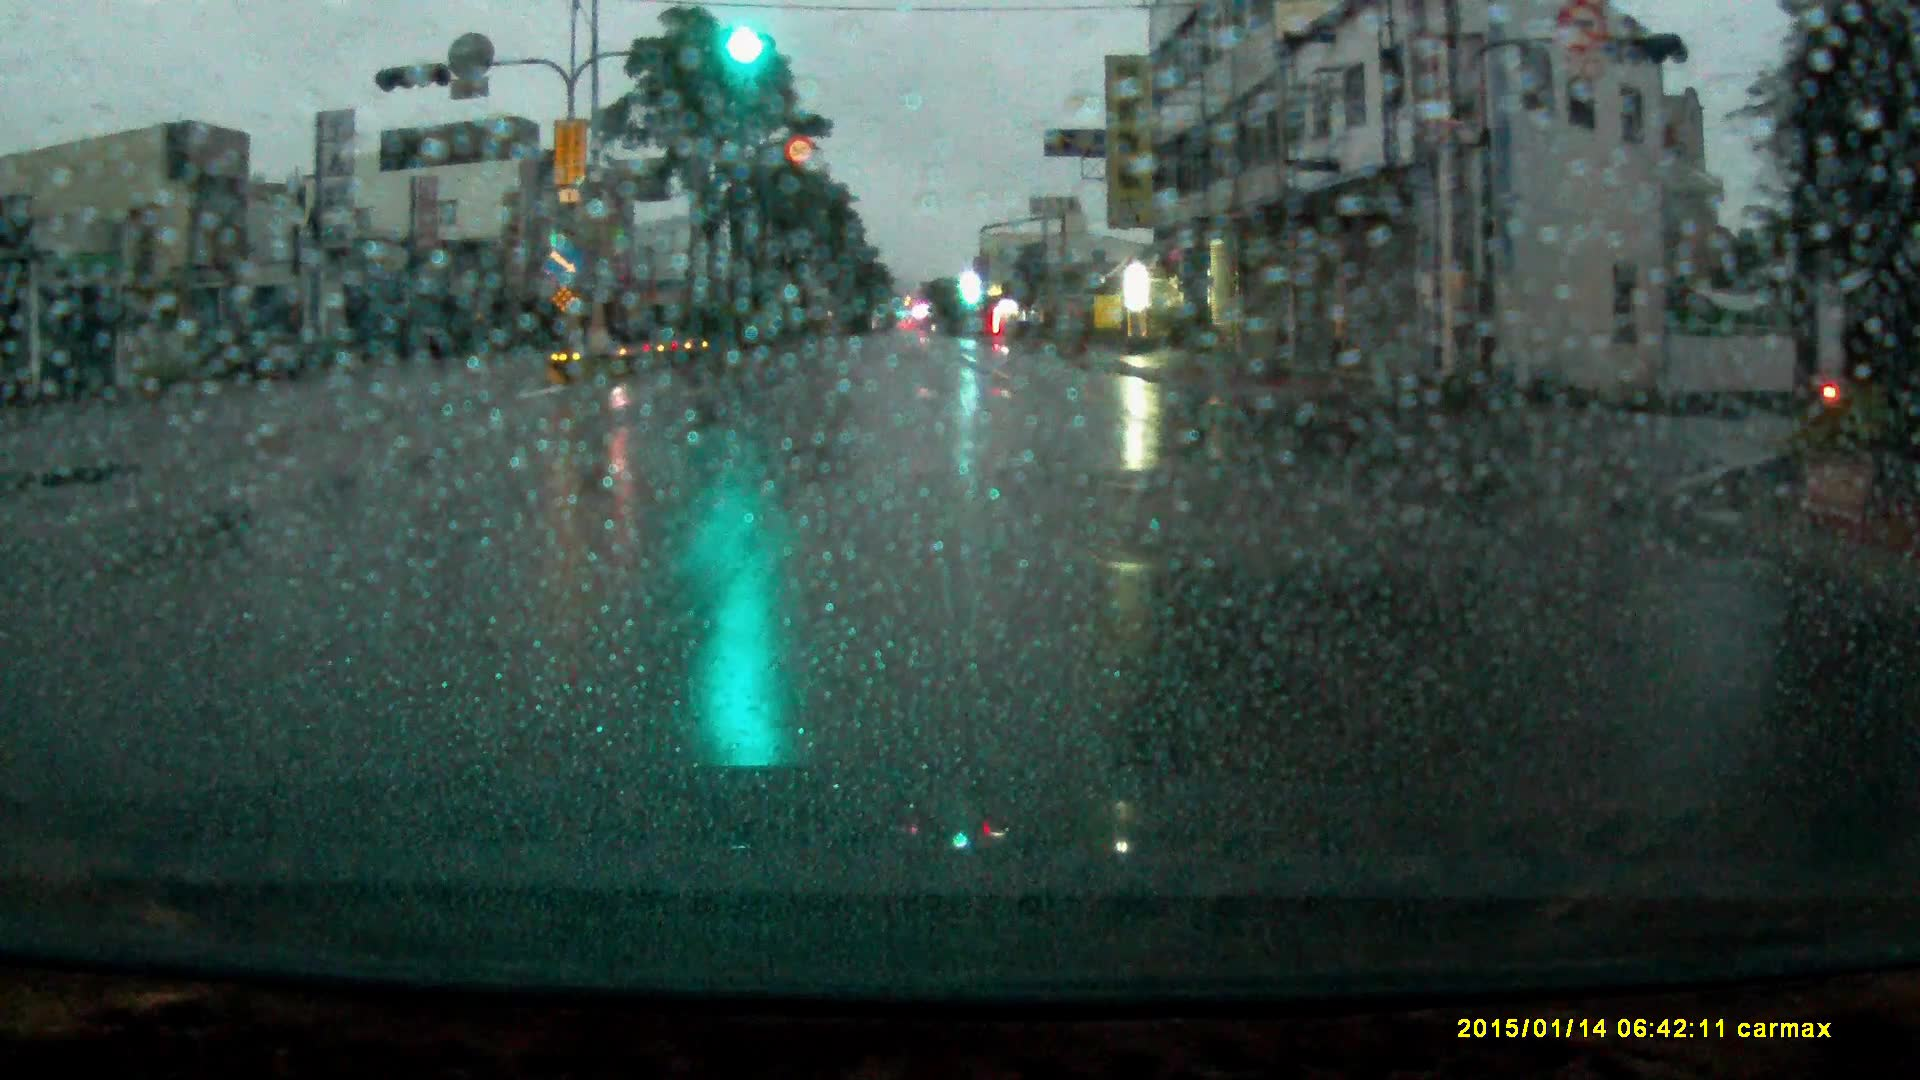rider: (1812, 320, 1878, 428)
